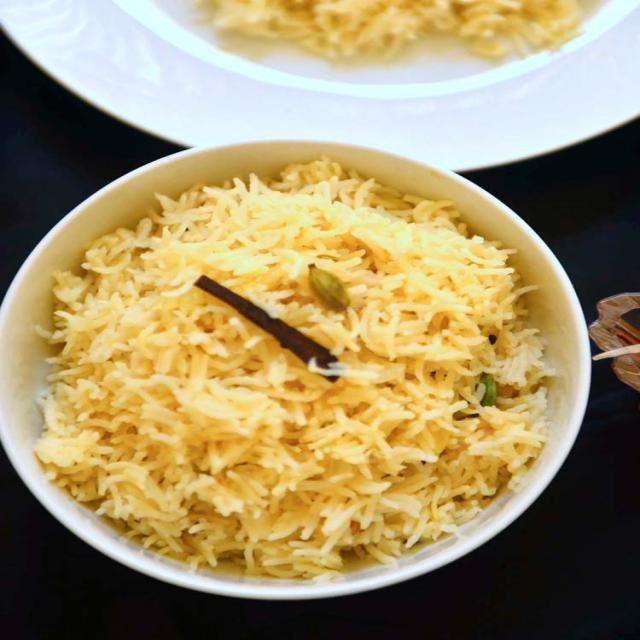nei satham: (29, 154, 528, 603)
